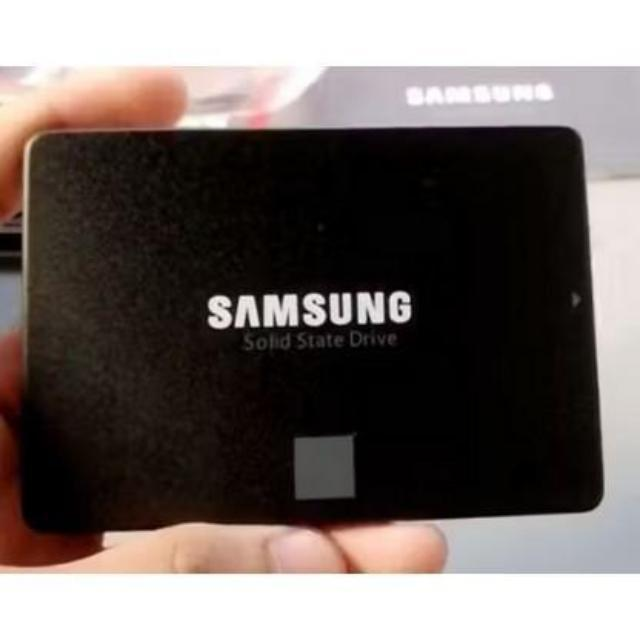DISK: (16, 124, 606, 538)
